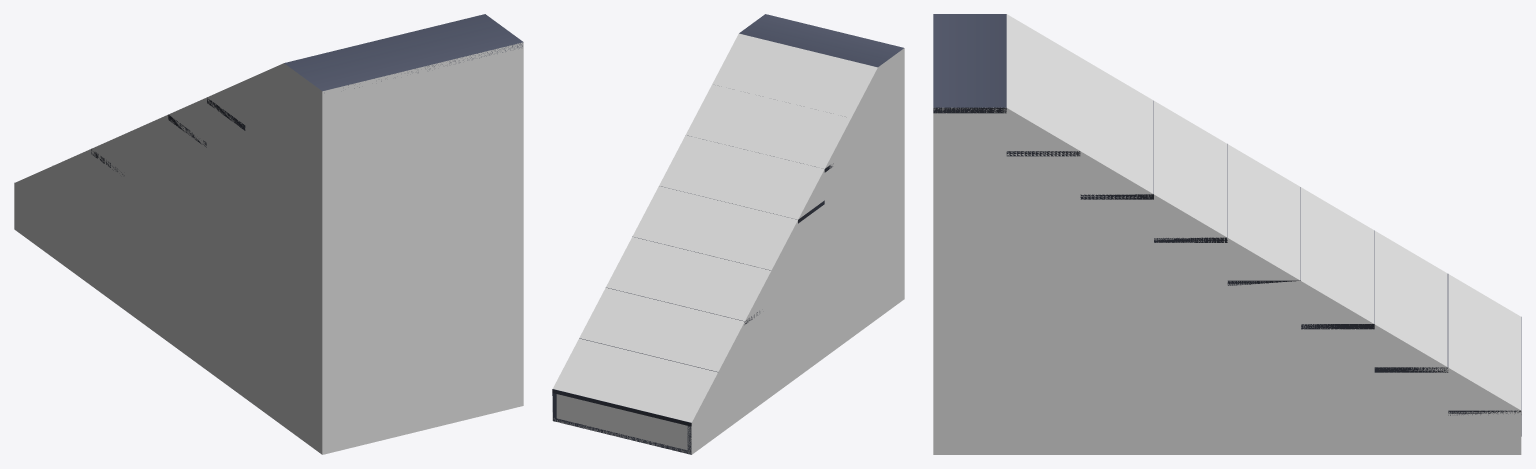
File: squidgame_props_stair1.fbx
3 views of the same model, side by side, from view 1: azimuth 30°, elevation 25°; view 2: azimuth 150°, elevation 25°; view 3: azimuth 270°, elevation 25° (orthographic). The views are drawn at different scales.
Parts seen in each view (by area): view 1: squidgame_props_stair1_col, squidgame_props_stair1; view 2: squidgame_props_stair1_col, squidgame_props_stair1; view 3: squidgame_props_stair1_col, squidgame_props_stair1.
Part boxes in pixels (x1=…): squidgame_props_stair1_col: x1=14, y1=42, x2=523, y2=454; squidgame_props_stair1: x1=14, y1=14, x2=523, y2=182; squidgame_props_stair1_col: x1=552, y1=33, x2=904, y2=454; squidgame_props_stair1: x1=552, y1=14, x2=903, y2=454; squidgame_props_stair1_col: x1=933, y1=14, x2=1521, y2=454; squidgame_props_stair1: x1=933, y1=14, x2=1521, y2=436.
Size of the model in its own units: 1.12 by 1.93 by 2.96.
